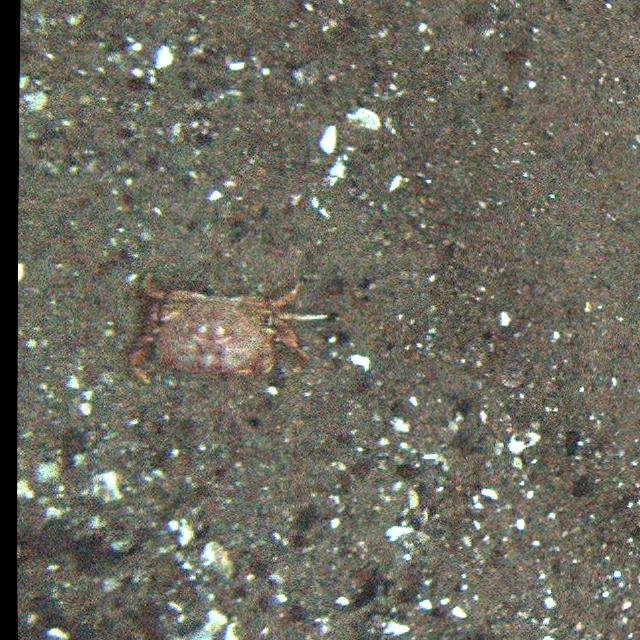crab: (123, 265, 318, 384)
